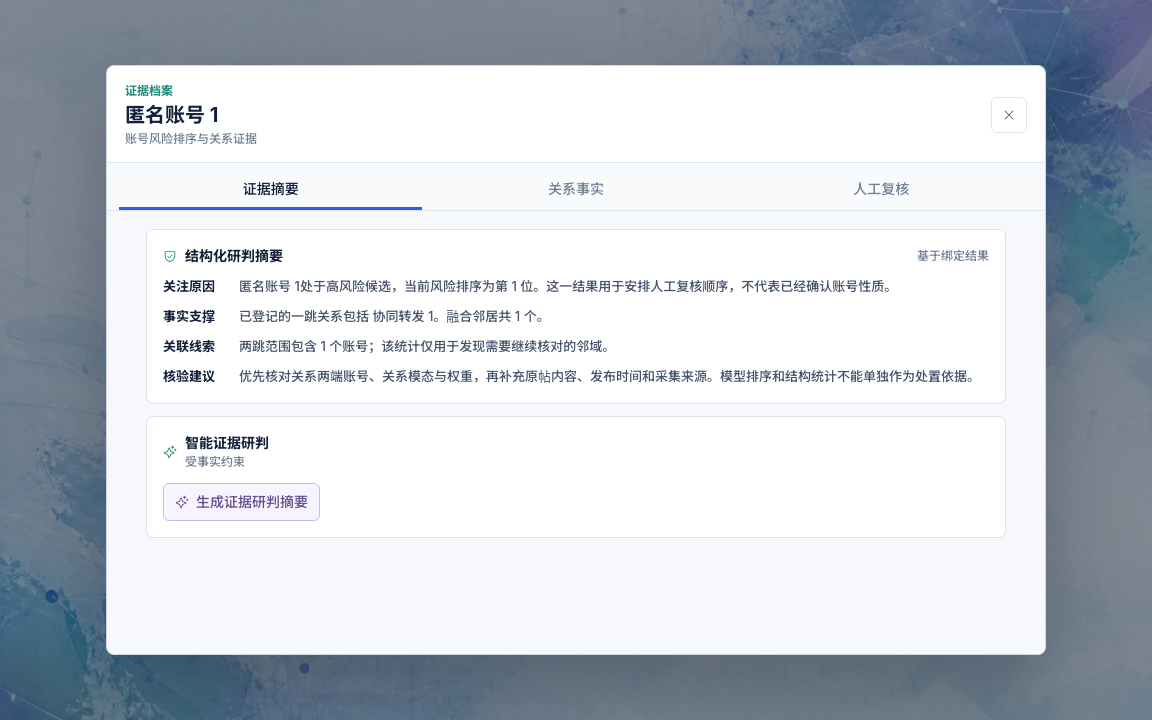
Test case: EvidenceDossier › is a centered accessible dialog with three tabs and explicit evidence gaps
The image size is (1152, 720).
Expected: the text "结构化研判摘要" is shown, [185,246,283,266]
Expected: the text "受事实约束" is shown, [185,454,245,469]
Click the tab "关系事实": (576, 190) [424,170,728,210]
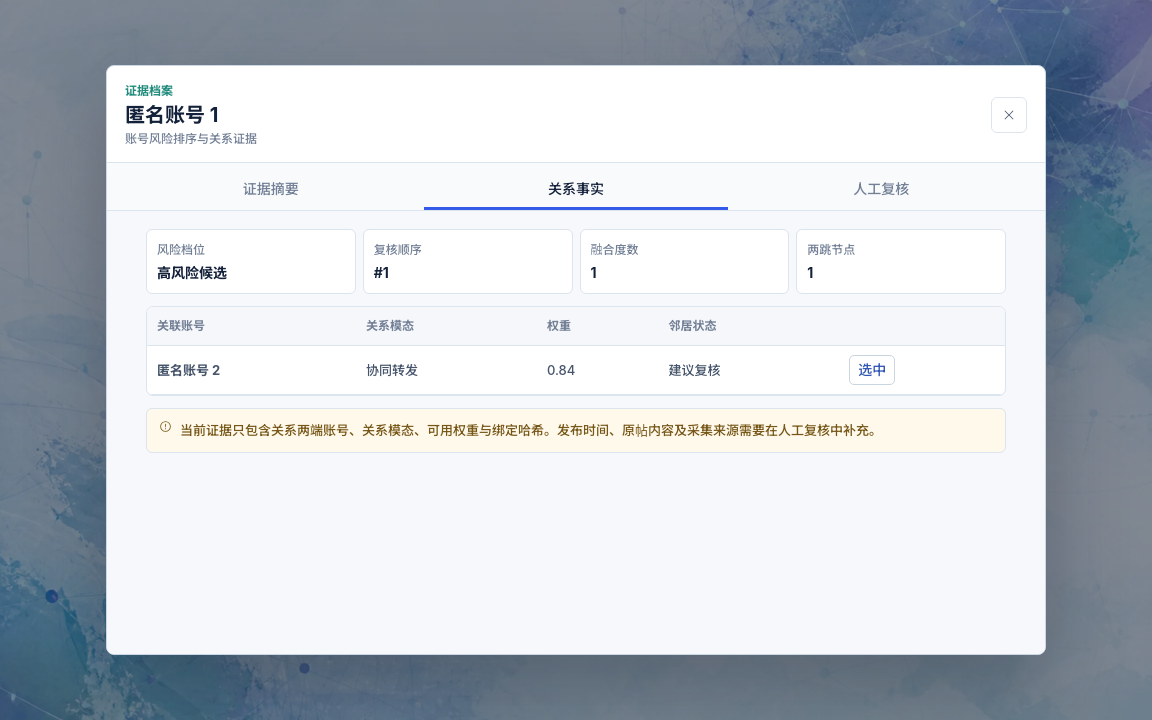
Now the column heading "关系模态" is shown, box [356,307,537,345]
Now the text "0.84" is shown, box [537,345,658,394]
Now the text "当前证据只包含关系两端账号、关系模态、可用权重与绑定哈希。发布时间、原帖内容及采集来源需要在人工复核中补充。" is shown, box [146,408,1006,453]
Click the tab "人工复核": (881, 190) [730,170,1033,210]
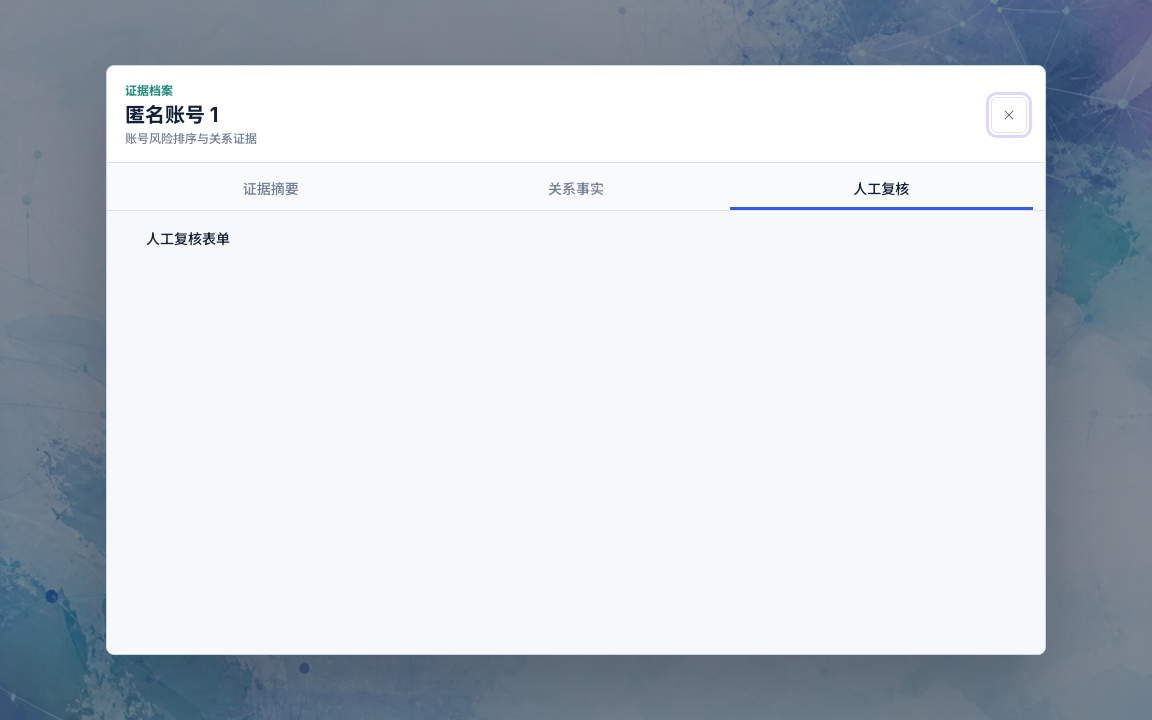
Now the text "人工复核表单" is shown, box [146,230,230,247]
